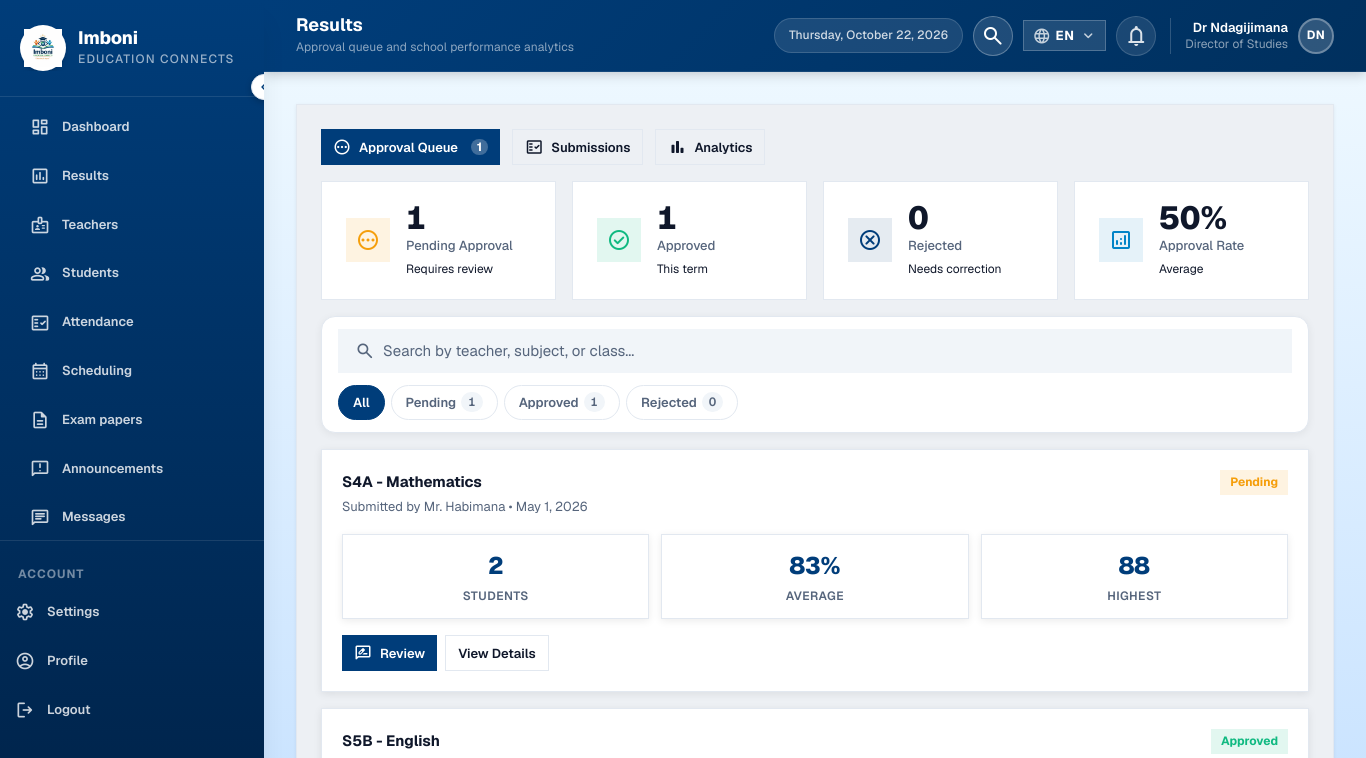
Test case: DosResults › shows the empty state when no card matches the filters
The image size is (1366, 758).
Expected: the text "S4A - Mathematics" is shown, left=342, top=472, right=482, bottom=491
Type "nonexistent-xyz" into the search field with placeholder "Search by teacher, subject, or class..." at [829, 351], box left=383, top=330, right=1275, bottom=372
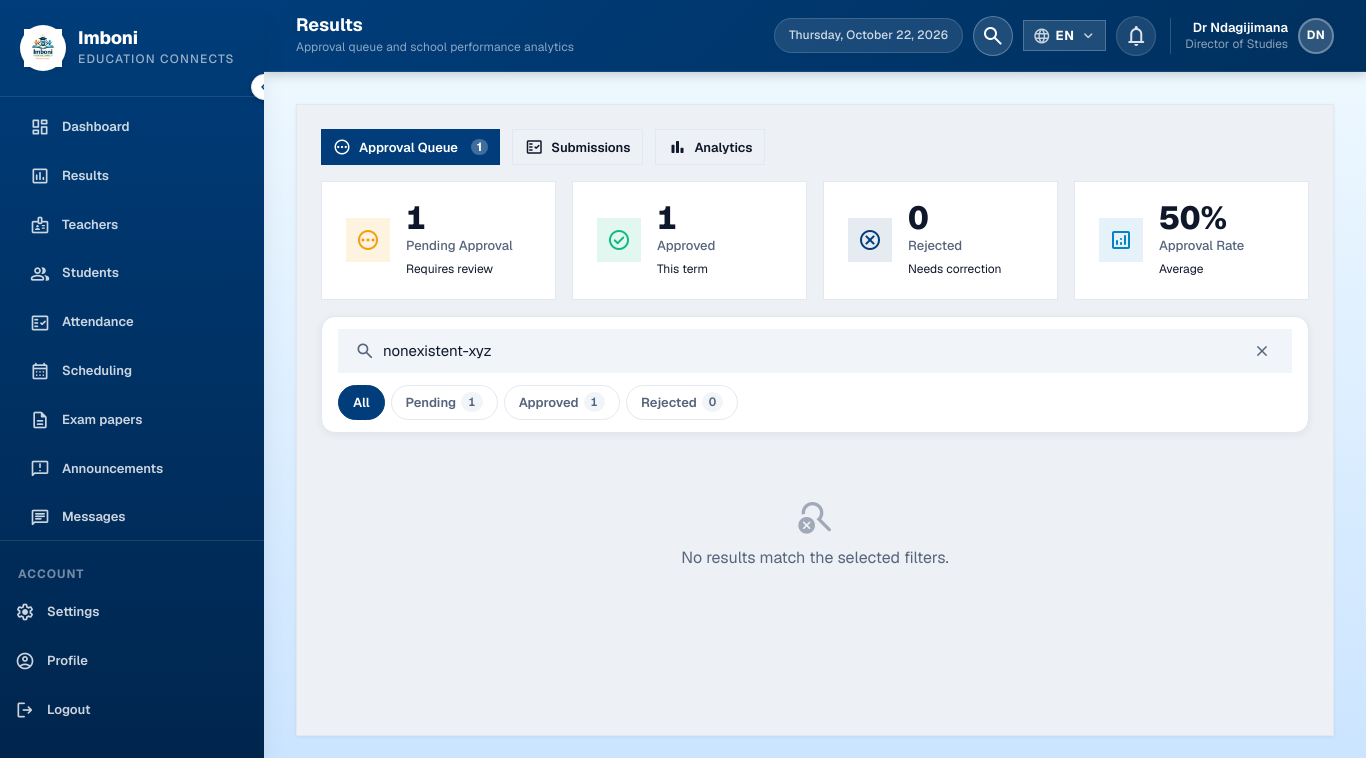
Expected: the text "No results match the selected filters." is shown, left=681, top=493, right=949, bottom=568
